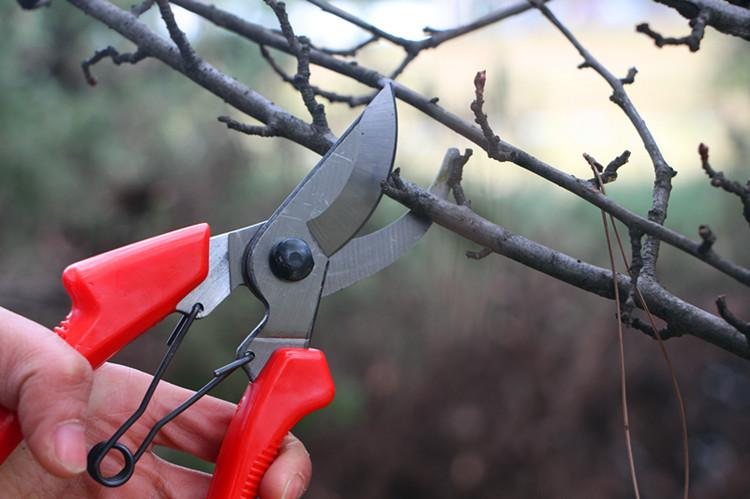scissor: (66, 87, 532, 497)
